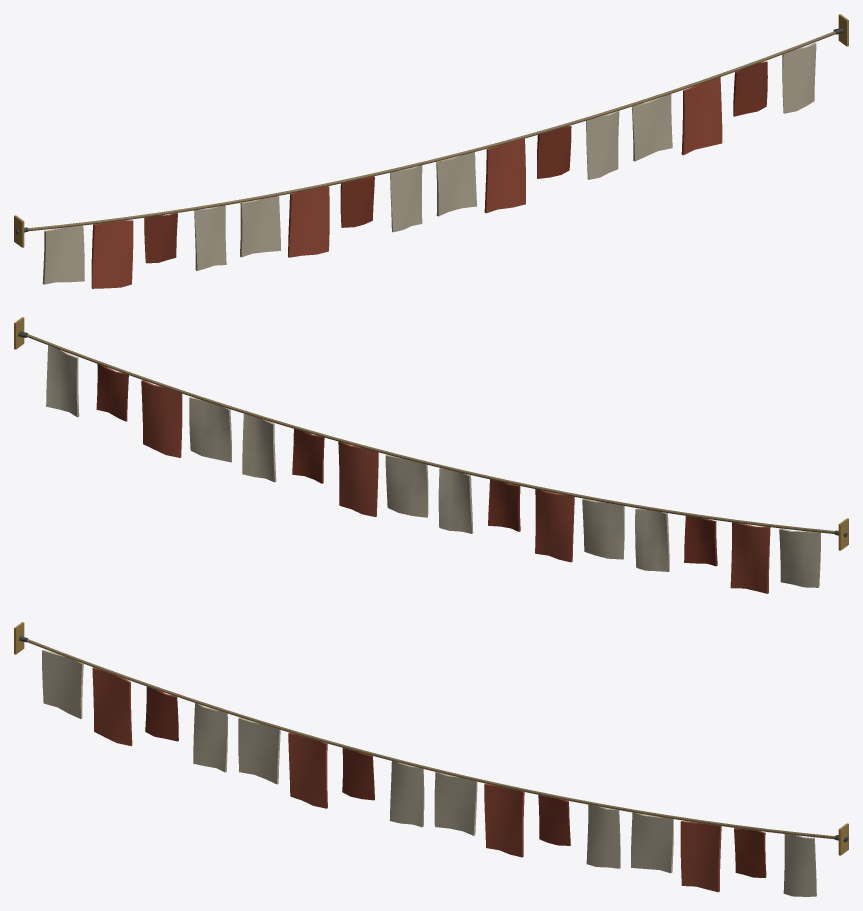
Rendered from laundry_line_8.glb.
The picture shows the model from 3 angles, top to bottom: view 1: azimuth 30°, elevation 25°; view 2: azimuth 150°, elevation 25°; view 3: azimuth 330°, elevation 25°; orthographic projection.
Visible parts, largest first — view 1: laundry_line_8; view 2: laundry_line_8; view 3: laundry_line_8.
Boxes of the visible parts, box(x1,y1,x2,y2) form: laundry_line_8: box(14, 14, 848, 288); laundry_line_8: box(14, 317, 848, 593); laundry_line_8: box(14, 622, 848, 896).
Size of the model in its own units: 8.03 by 1.01 by 0.14.
